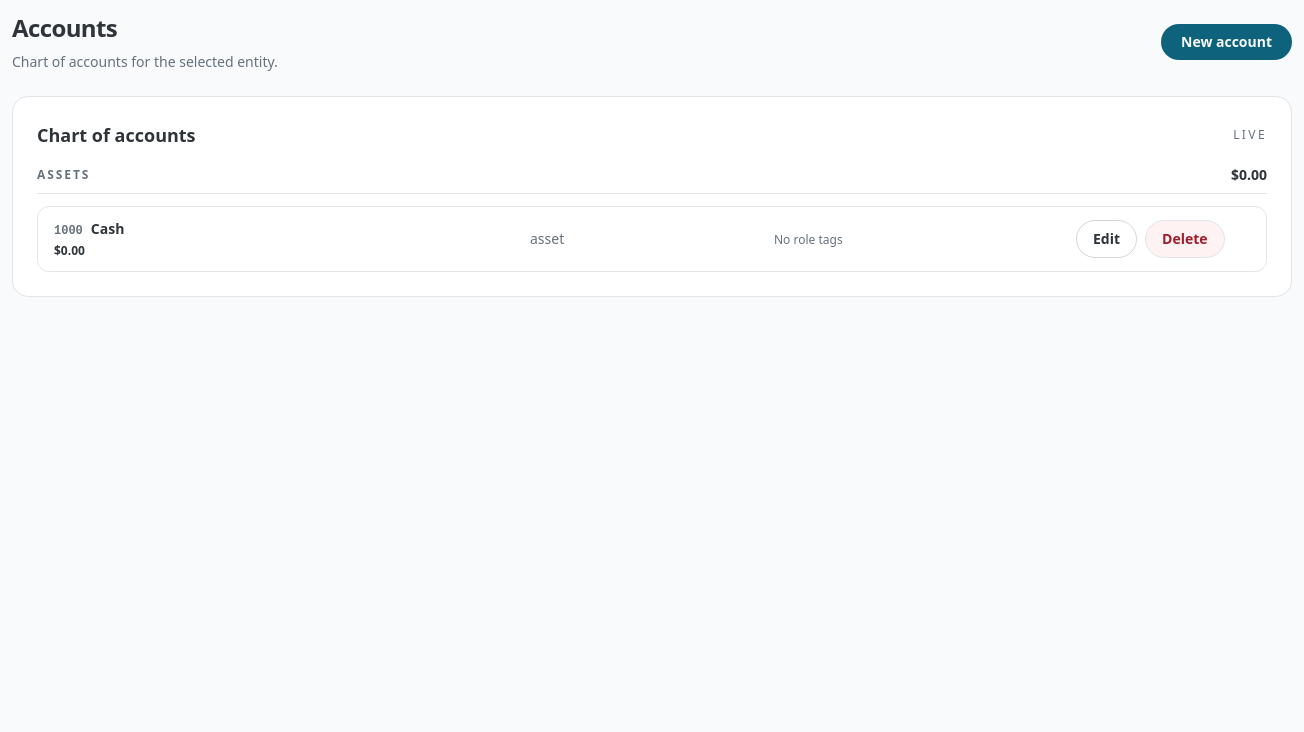
it: Accounts page › creates an account successfully
Expected: the text "Cash" is shown, [91,219,124,239]
Click the button "New account". click: click(1226, 42)
box: [1161,24,1292,60]
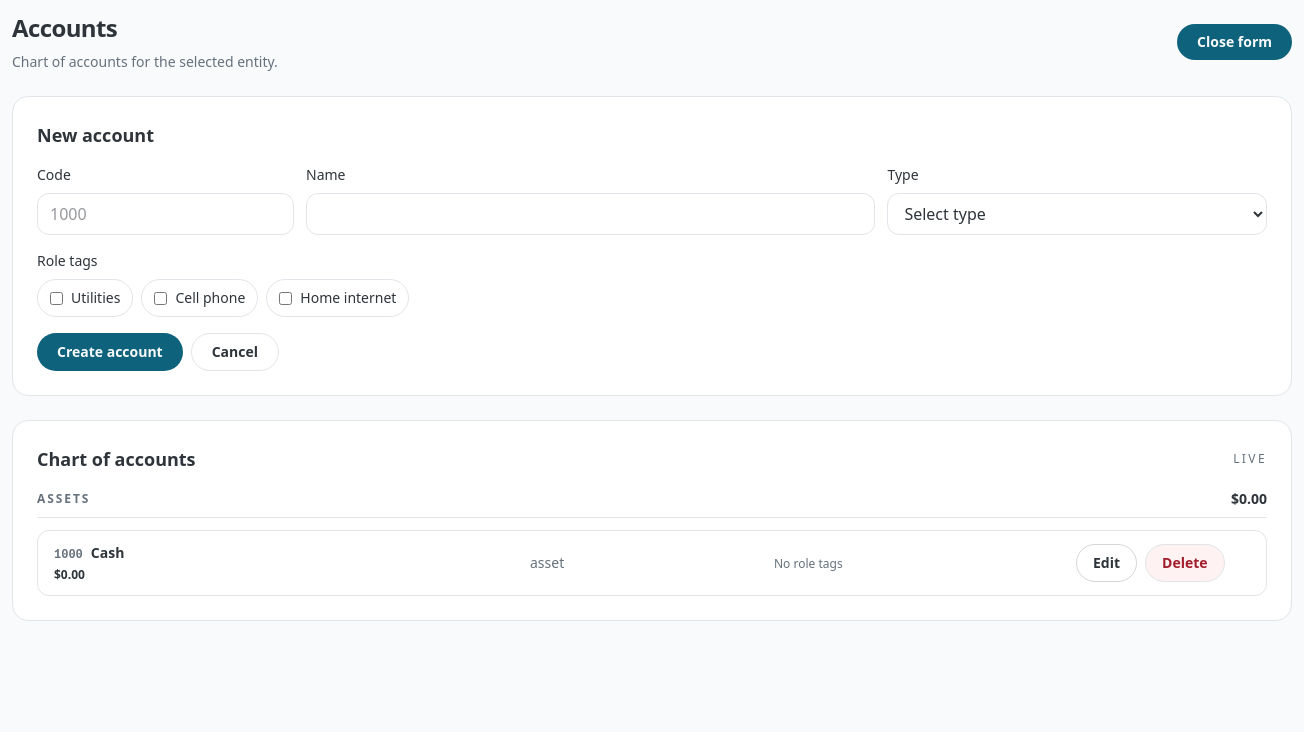
Expected: the button "Create account" is shown, [37,333,183,371]
Type "5080" into the field labelled "Code". click: (166, 214)
box: [37,193,294,235]
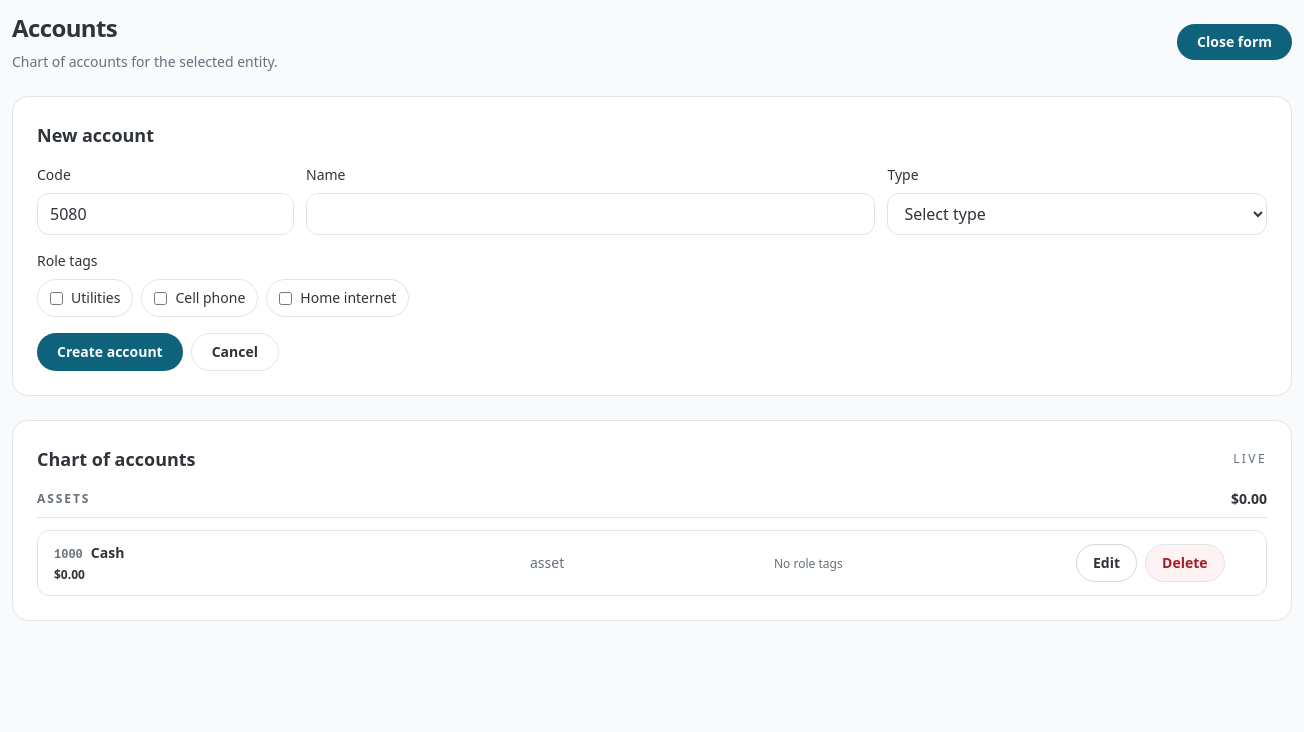
Type "Travel" into the field labelled "Name". click: (591, 214)
box: [306,193,875,235]
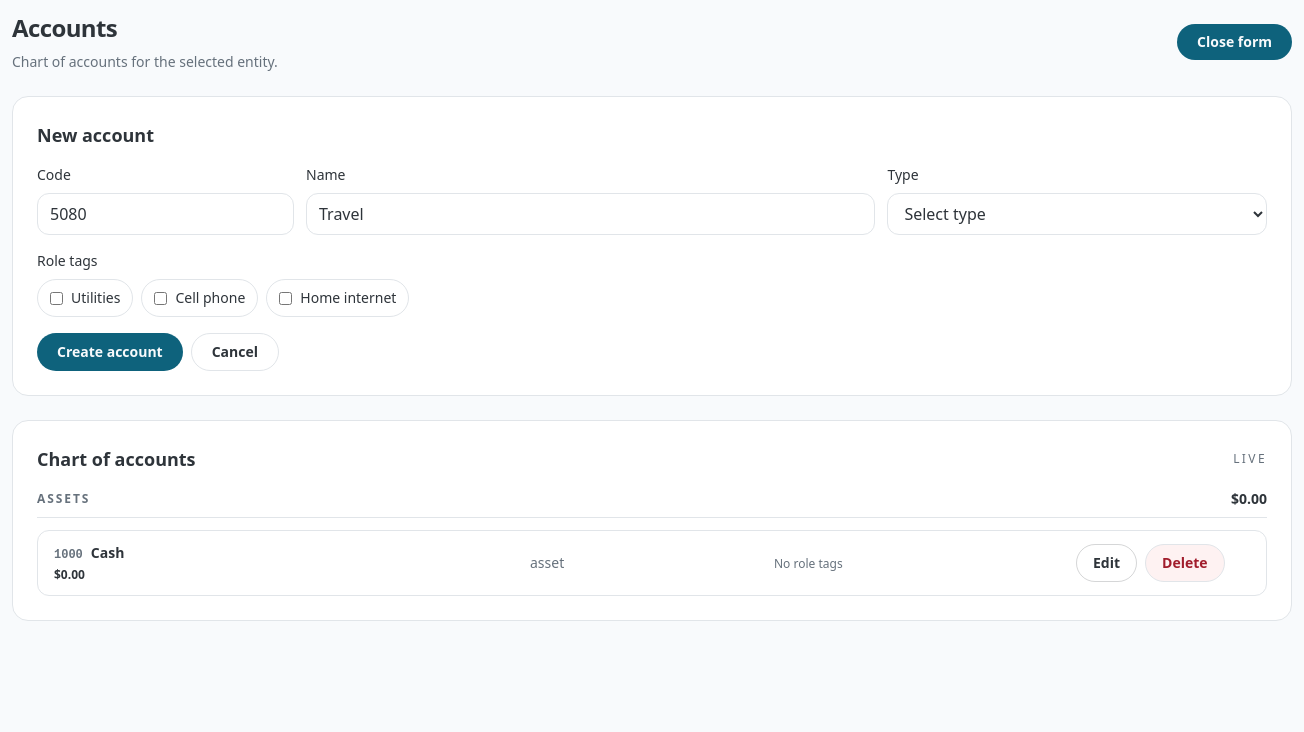
Select "Expense" in the dropdown labelled "Type". click: (1077, 214)
box: [887,193,1267,235]
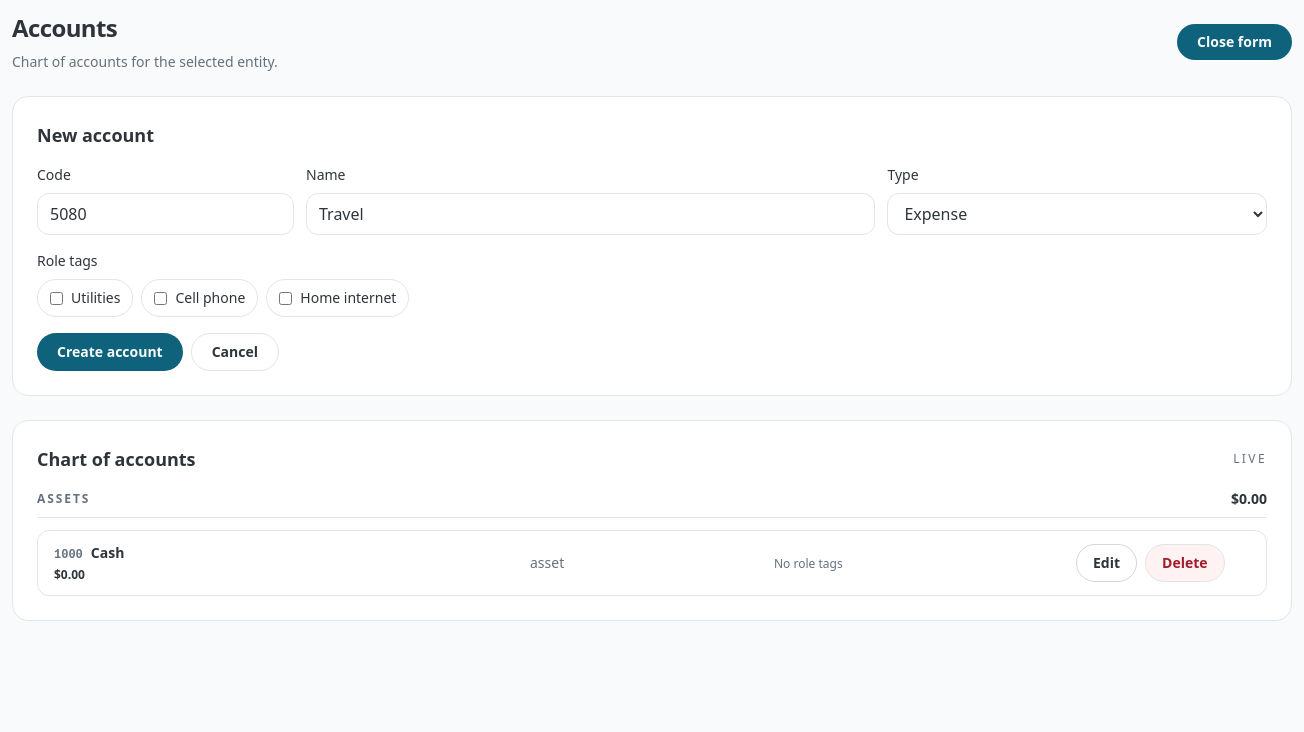
Click the button "Create account". click: click(110, 352)
box: [37,333,183,371]
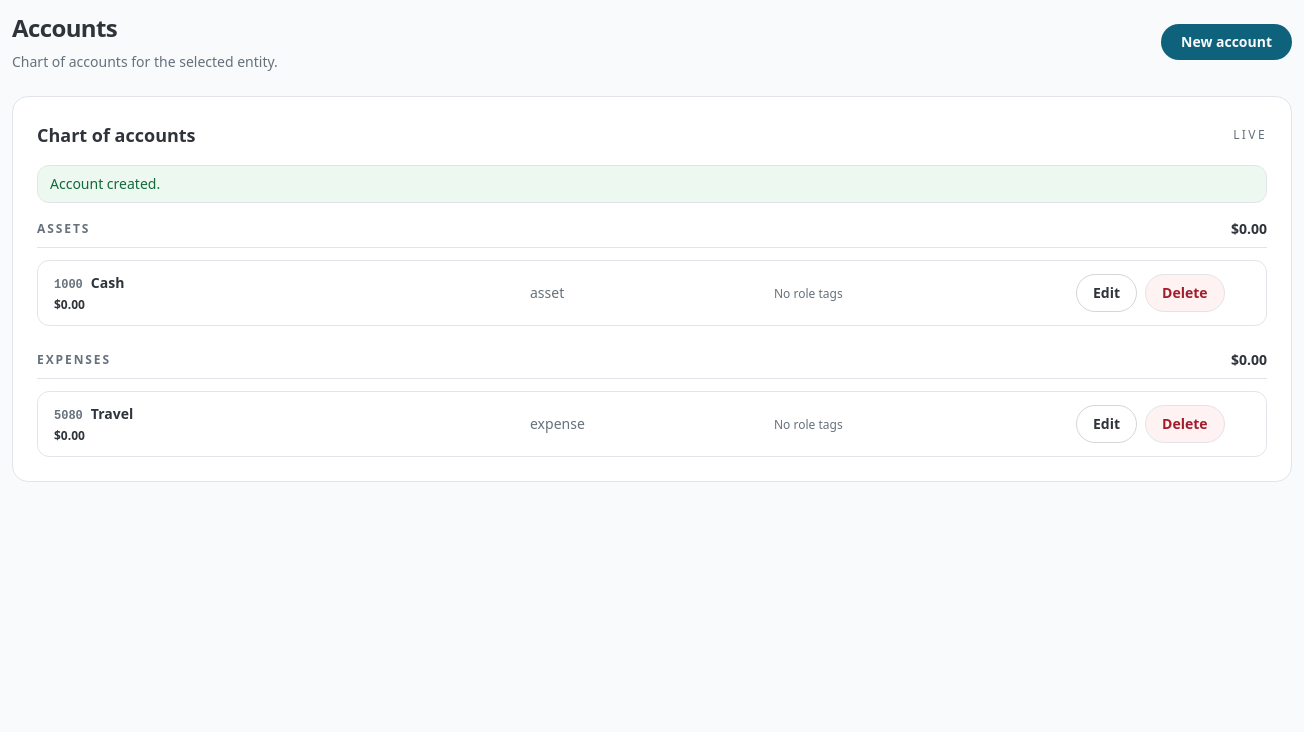
Expected: the text "Account created." is shown, [37,165,1267,203]
Expected: the text "Travel" is shown, [91,404,133,424]
